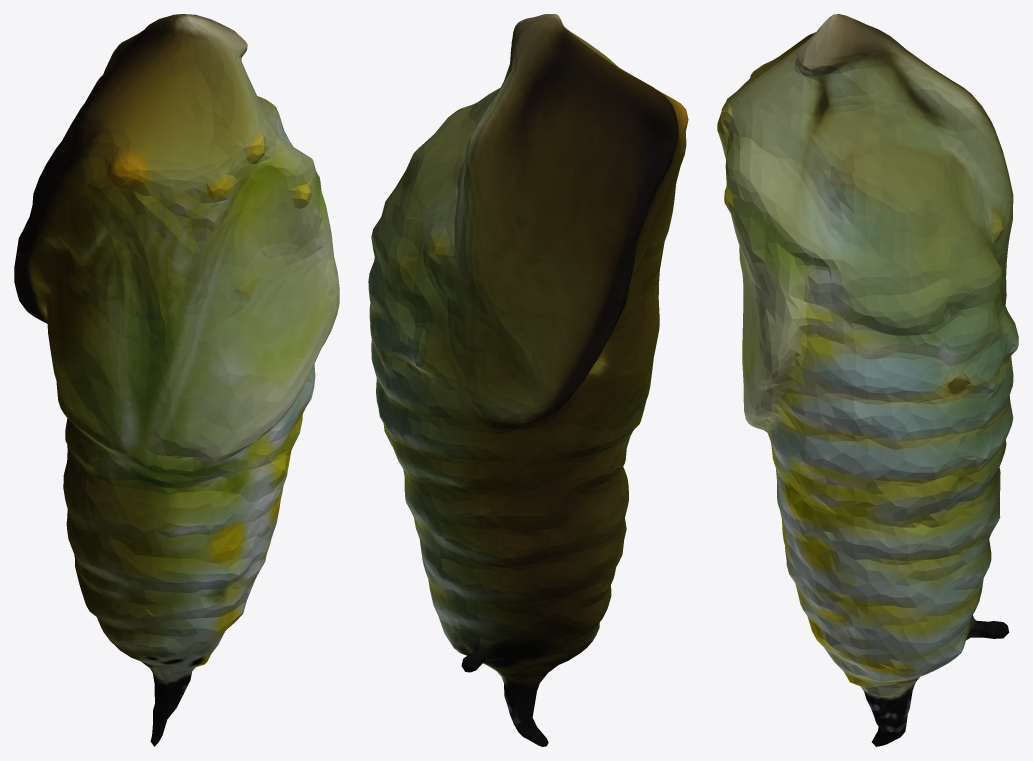
File: crisalida.glb
The picture shows the model from 3 angles, left to right: view 1: azimuth 30°, elevation 25°; view 2: azimuth 150°, elevation 25°; view 3: azimuth 270°, elevation 25°; orthographic projection. The views are drawn at different scales.
Parts seen in each view (by area): view 1: geometry_0; view 2: geometry_0; view 3: geometry_0.
Part boxes in pixels (x1,y1,x2,y2): geometry_0: (14, 14, 339, 746); geometry_0: (368, 14, 688, 746); geometry_0: (717, 14, 1018, 746).
Bounding box in the file's own units: 0.3751 × 0.985 × 0.3647.
Materials: 1 (1 with a texture image).
